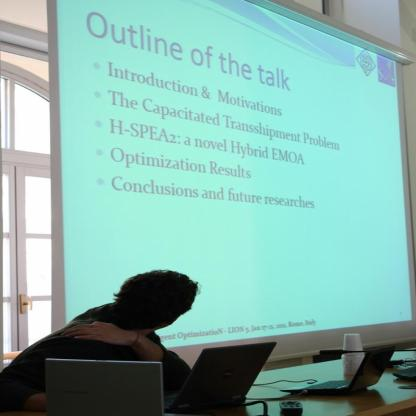board: (46, 358, 176, 416), (170, 346, 284, 412), (279, 344, 395, 390)
